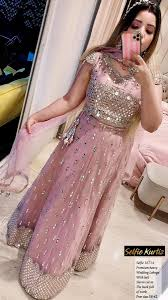Human_Female: (39, 4, 163, 295)
